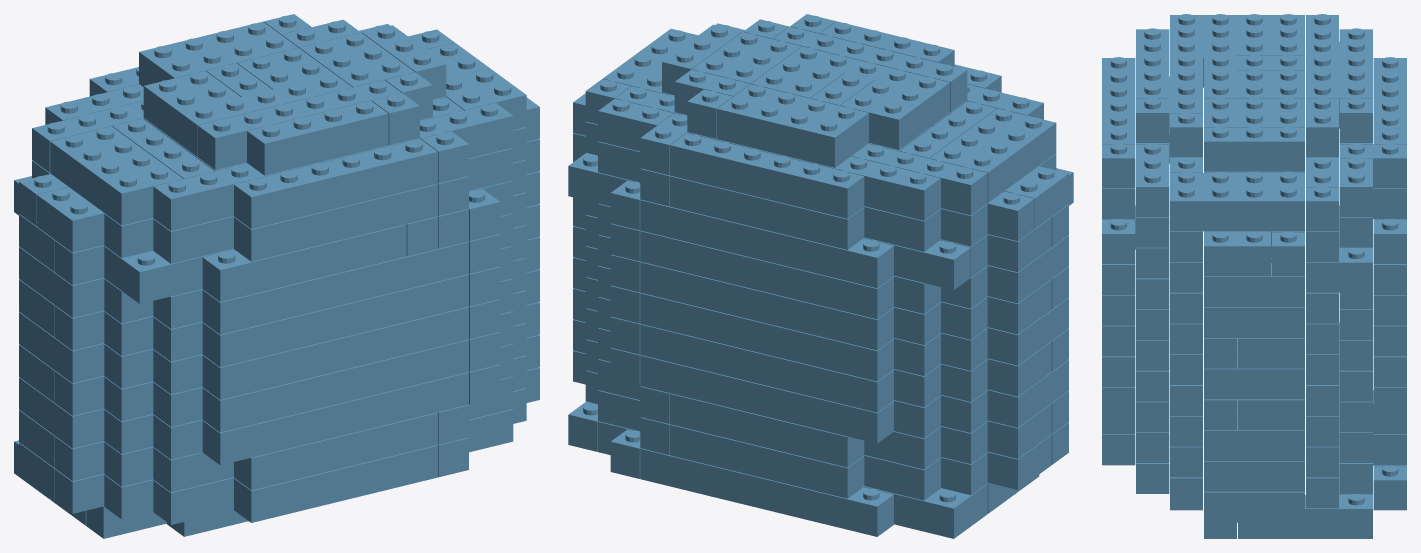
File: 132_camera_L2.glb
3 views of the same model, side by side, from view 1: azimuth 30°, elevation 25°; view 2: azimuth 150°, elevation 25°; view 3: azimuth 270°, elevation 25° (orthographic). The views are drawn at different scales.
Size of the model in its own units: 14.98 by 12.13 by 8.98.
